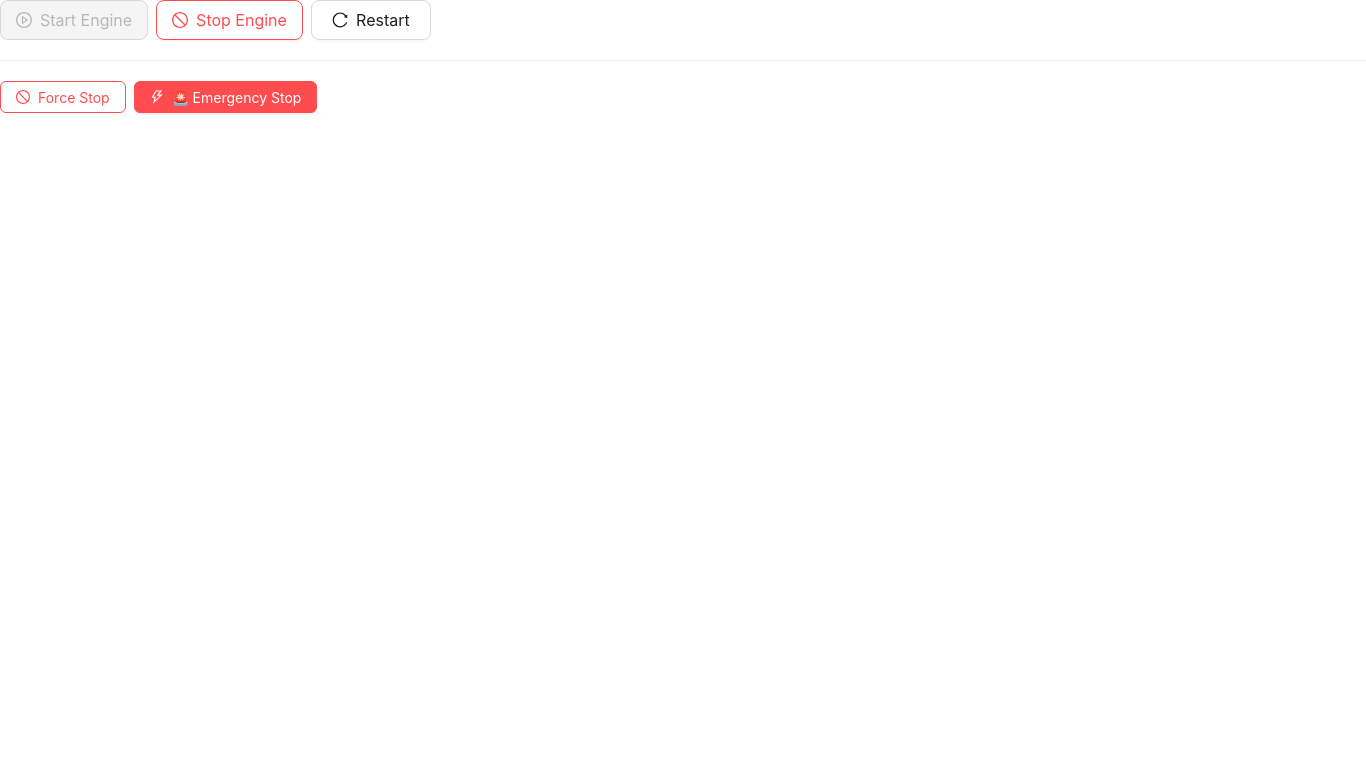
Test: EngineControlPanel › shows force stop confirmation with warning
The image size is (1366, 768).
Click the button "Force Stop" at (63, 97), box [0, 81, 126, 113]
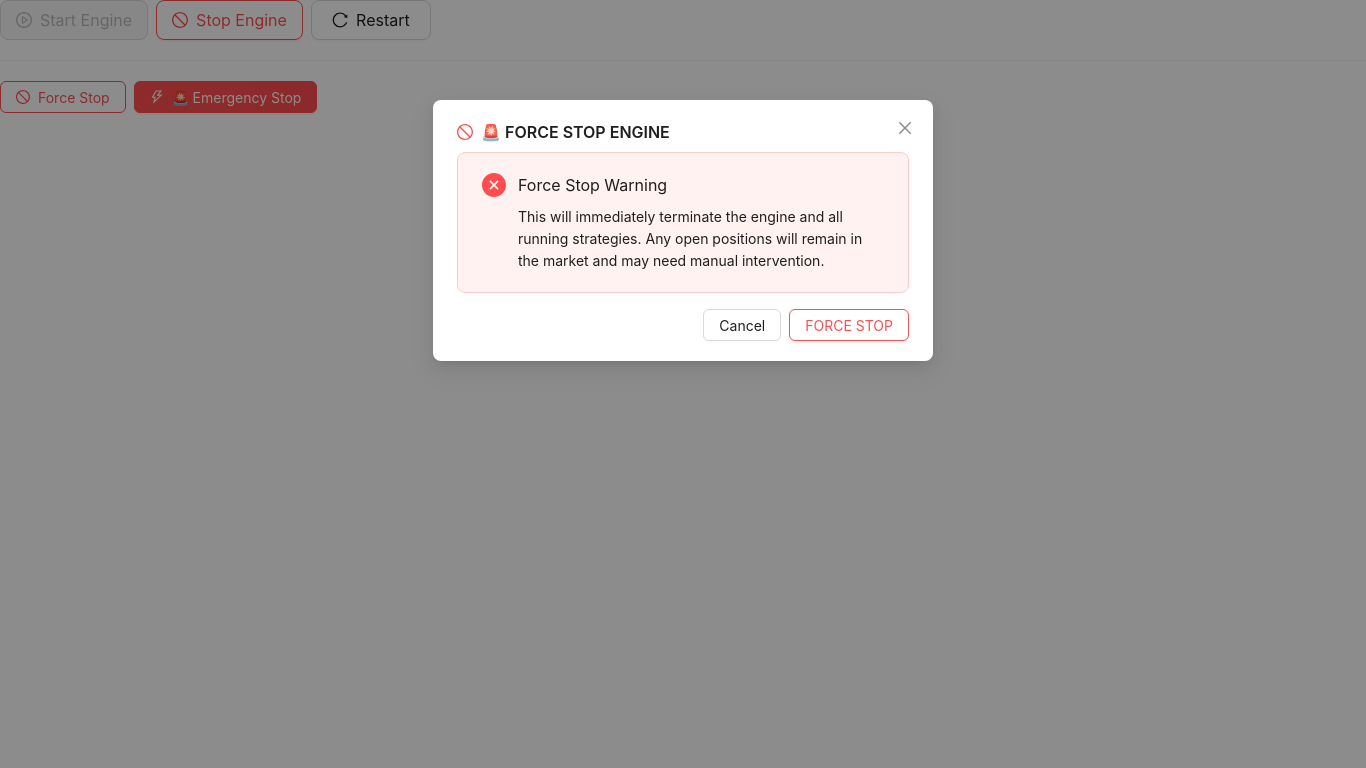
Expected: the text "🚨 FORCE STOP ENGINE" is shown, [481, 120, 670, 144]
Expected: the text "immediately terminate" is shown, [518, 208, 862, 269]
